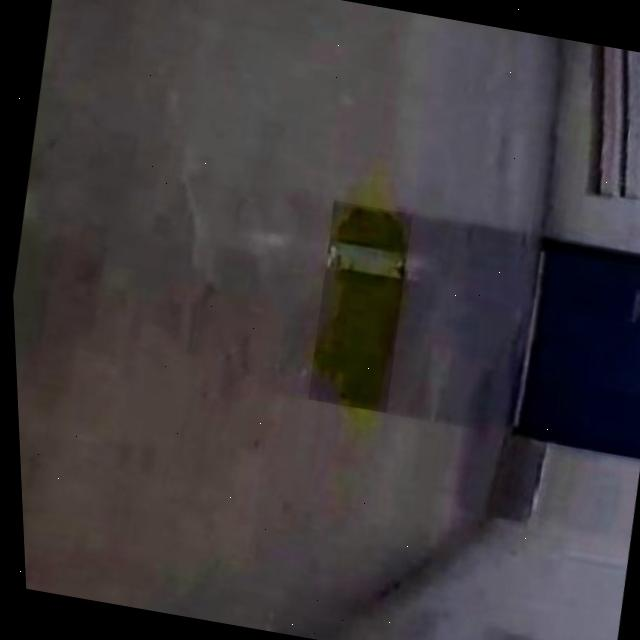spillage: (311, 206, 401, 407)
